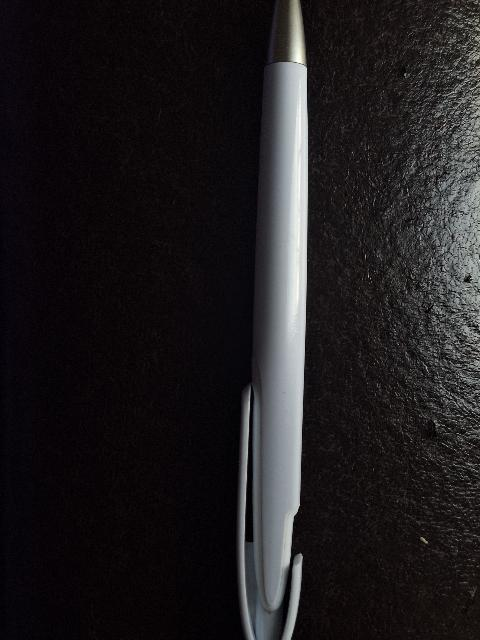writing_tool: (231, 0, 315, 640)
